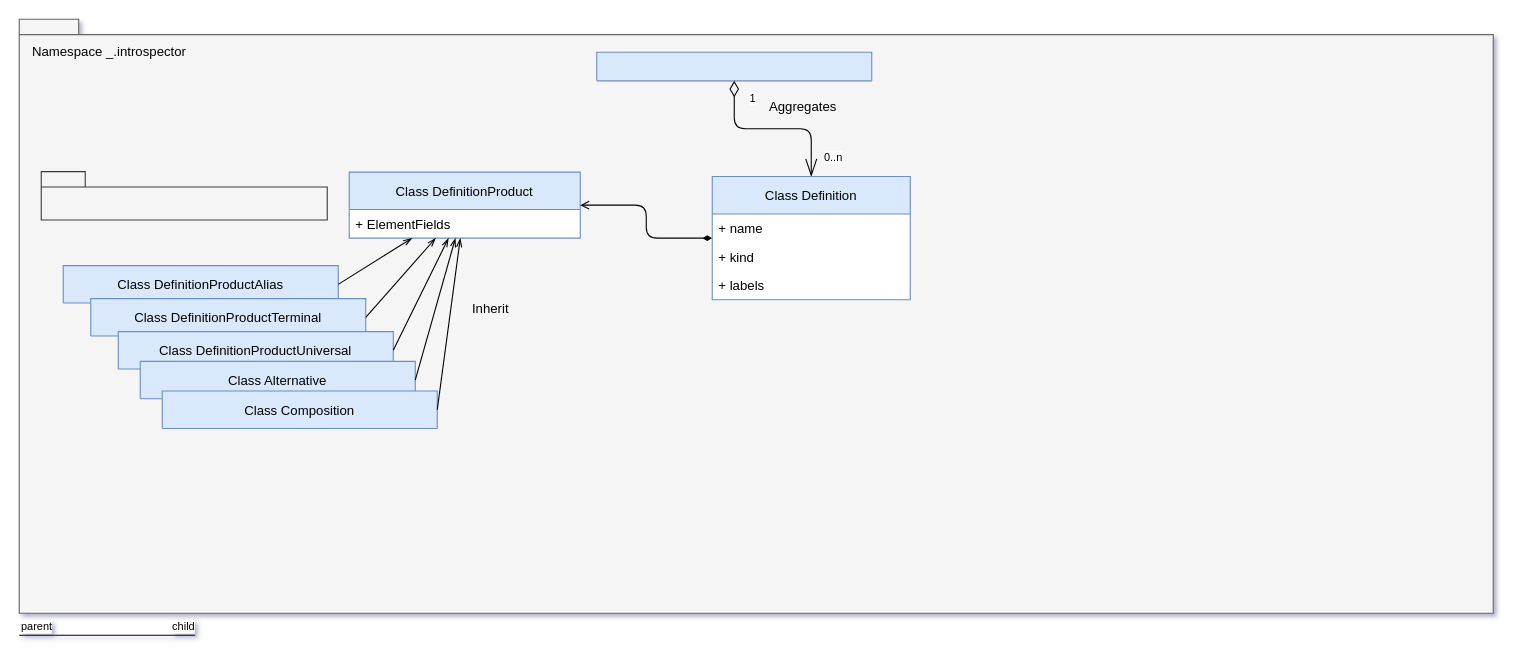
The diagram is 1519 pixels wide and 662 high, and some of its shapes have lost their labels. Here are the shapes that lost their labels. From the top down, the centre of each, then its label:
At [734,66]: "Class System".
At [183,195]: "Namespace _.introspector.predefined".
